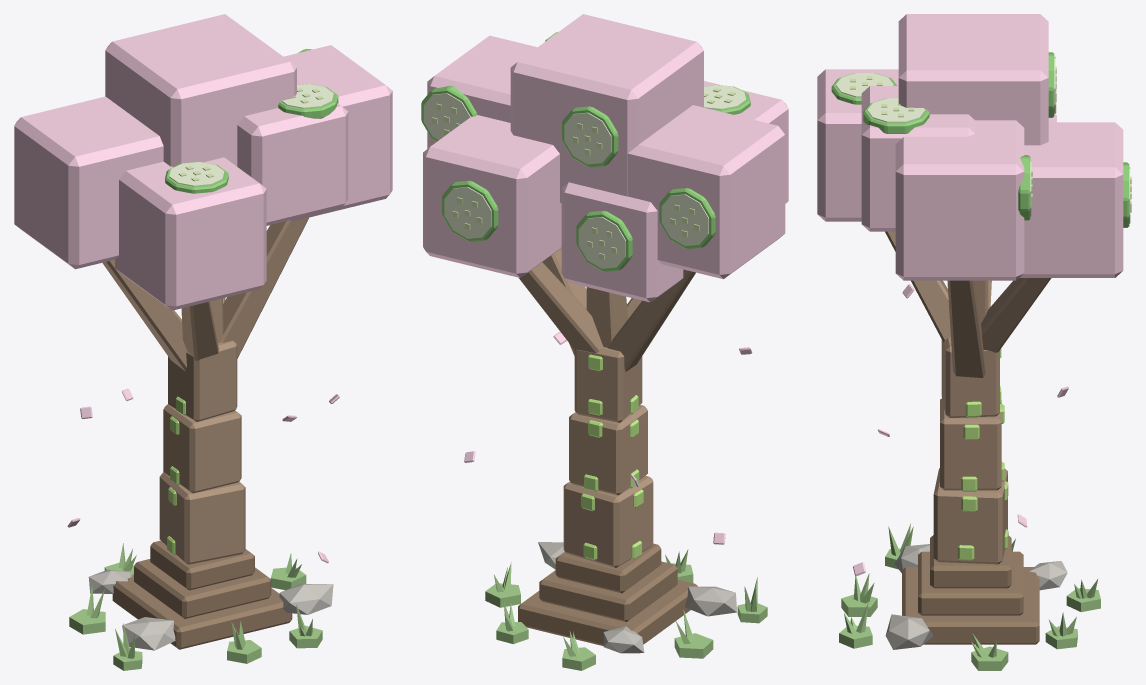
The model's file is SamuraiSakuraTree.fbx.
The picture shows the model from 3 angles, left to right: view 1: azimuth 30°, elevation 25°; view 2: azimuth 150°, elevation 25°; view 3: azimuth 270°, elevation 25°; orthographic projection. The views are drawn at different scales.
Visible parts, largest first — view 1: SamuraiSakuraTree.Blossom, SamuraiSakuraTree.Trunk, SamuraiSakuraTree.Base, SamuraiSakuraTree.Tufts, SamuraiSakuraTree.Stones, SamuraiSakuraTree.SliceFaces, SamuraiSakuraTree.SliceRims, SamuraiSakuraTree.TrunkStuds; view 2: SamuraiSakuraTree.Blossom, SamuraiSakuraTree.Trunk, SamuraiSakuraTree.Base, SamuraiSakuraTree.SliceFaces, SamuraiSakuraTree.Tufts, SamuraiSakuraTree.SliceRims, SamuraiSakuraTree.Stones, SamuraiSakuraTree.TrunkStuds, SamuraiSakuraTree.SliceSeeds; view 3: SamuraiSakuraTree.Blossom, SamuraiSakuraTree.Trunk, SamuraiSakuraTree.Base, SamuraiSakuraTree.Tufts, SamuraiSakuraTree.SliceRims, SamuraiSakuraTree.Stones, SamuraiSakuraTree.SliceFaces, SamuraiSakuraTree.TrunkStuds, SamuraiSakuraTree.SliceSeeds.
Part boxes in pixels (x1,y1,x2,y2): SamuraiSakuraTree.Blossom: (14,14,392,563); SamuraiSakuraTree.Trunk: (102,217,308,564); SamuraiSakuraTree.Base: (112,540,292,649); SamuraiSakuraTree.Tufts: (69,543,322,670); SamuraiSakuraTree.Stones: (88,569,333,650); SamuraiSakuraTree.SliceFaces: (169,84,333,186); SamuraiSakuraTree.SliceRims: (165,49,338,193); SamuraiSakuraTree.TrunkStuds: (167,396,185,554); SamuraiSakuraTree.Blossom: (423,14,788,544); SamuraiSakuraTree.Trunk: (519,248,695,567); SamuraiSakuraTree.Base: (518,543,697,645); SamuraiSakuraTree.SliceFaces: (423,32,746,268); SamuraiSakuraTree.Tufts: (485,549,767,670); SamuraiSakuraTree.SliceRims: (421,32,750,271); SamuraiSakuraTree.Stones: (538,542,736,653); SamuraiSakuraTree.TrunkStuds: (581,354,643,560); SamuraiSakuraTree.SliceSeeds: (432,88,735,259); SamuraiSakuraTree.Blossom: (817,14,1123,575); SamuraiSakuraTree.Trunk: (885,231,1051,564); SamuraiSakuraTree.Base: (902,535,1039,644); SamuraiSakuraTree.Tufts: (839,523,1100,670); SamuraiSakuraTree.SliceRims: (831,52,1129,227); SamuraiSakuraTree.Stones: (885,544,1067,649); SamuraiSakuraTree.SliceFaces: (836,56,1130,223); SamuraiSakuraTree.TrunkStuds: (958,348,1008,560); SamuraiSakuraTree.SliceSeeds: (850,66,1131,212).
Bounding box in the file's own units: 6.81 × 11.68 × 5.78.
